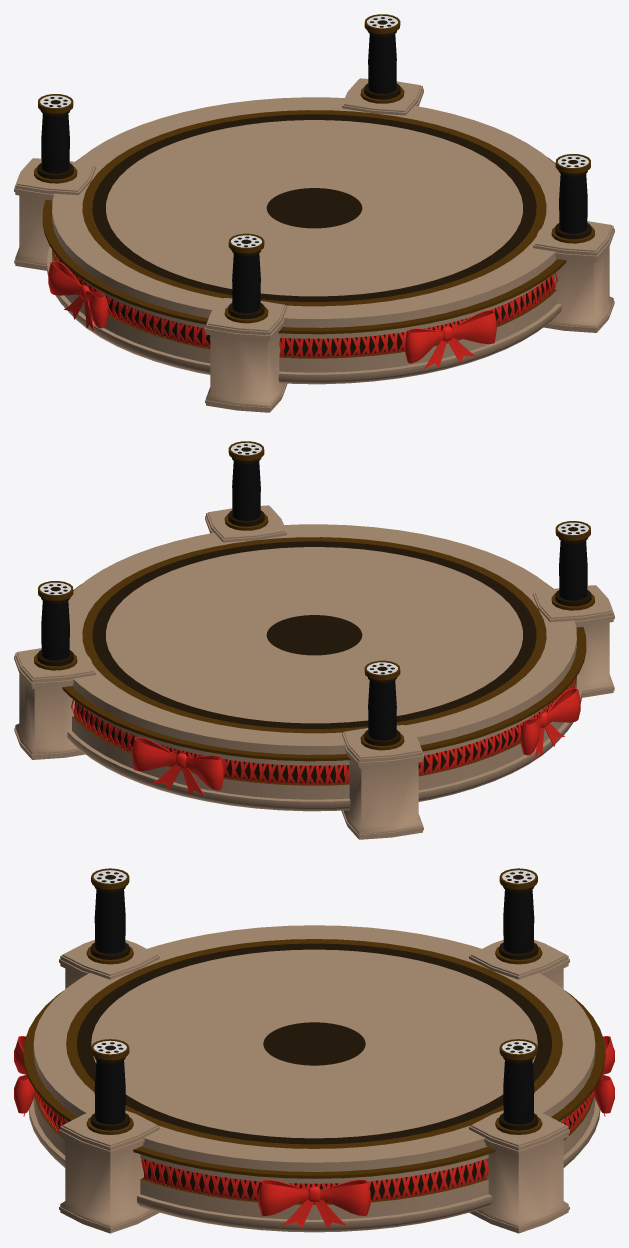
File: Level.4.fbx
3 views of the same model, one above another, from view 1: azimuth 30°, elevation 25°; view 2: azimuth 150°, elevation 25°; view 3: azimuth 270°, elevation 25° (orthographic). The views are drawn at different scales.
Visible parts, largest first — view 1: Level.4; view 2: Level.4; view 3: Level.4.
Boxes of the visible parts, box(x1,y1,x2,y2) form: Level.4: box(14, 14, 614, 412); Level.4: box(14, 441, 614, 839); Level.4: box(14, 868, 614, 1233).
Bounding box in the file's own units: 2564 × 779 × 2564.
